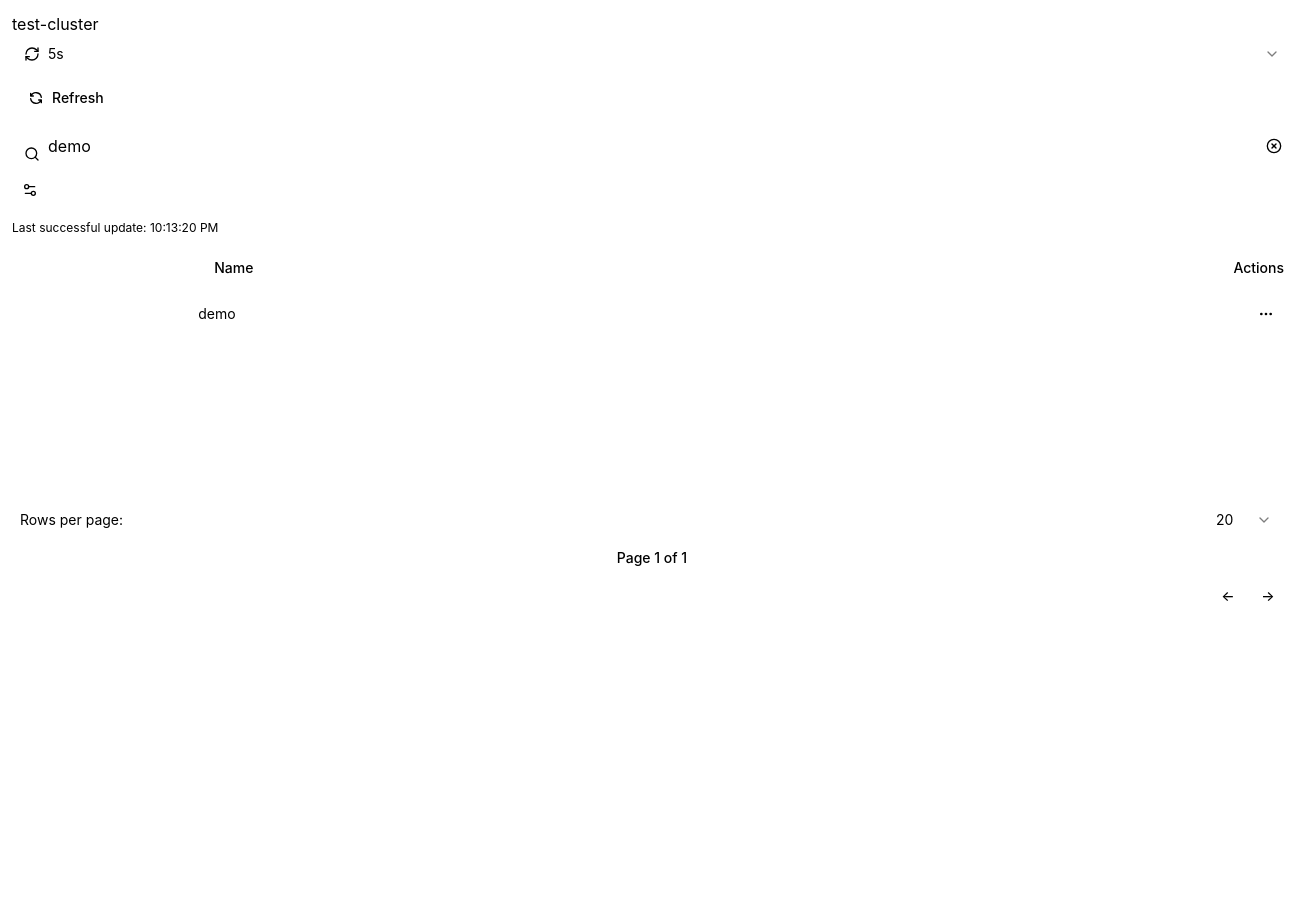
ResourceTable batch delete confirmation › clears and persists a new search on the active cluster key
Clear the field with placeholder "Search resources...": (630, 146) [12,128,1248,164]
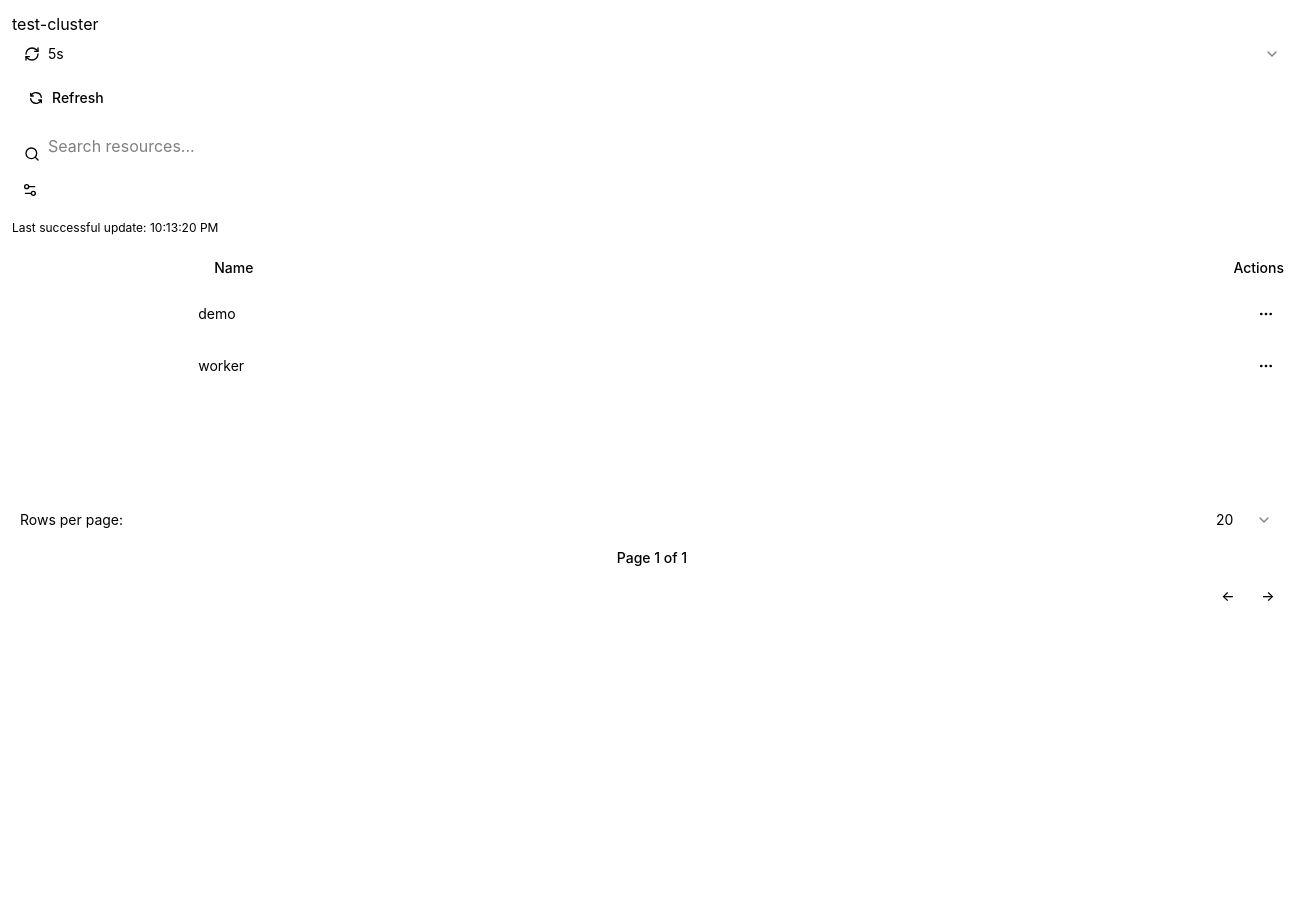
Result: the text "worker" is shown at [190,340,921,392]
In the field with placeholder "Search resources...": (652, 146) [12,128,1292,164], type "work"
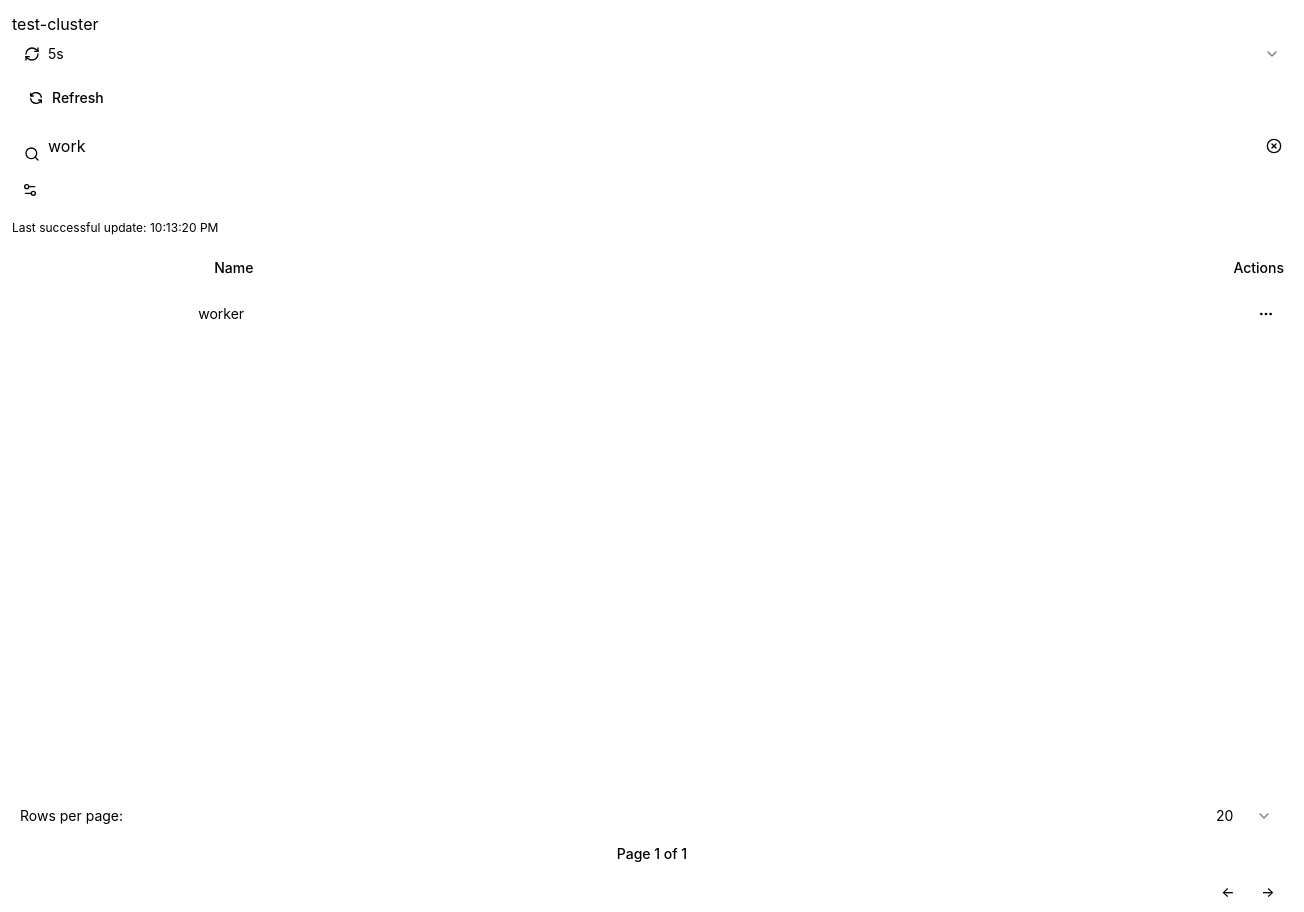
Result: the text "worker" is shown at [190,288,921,340]
Result: the text "demo" is gone
